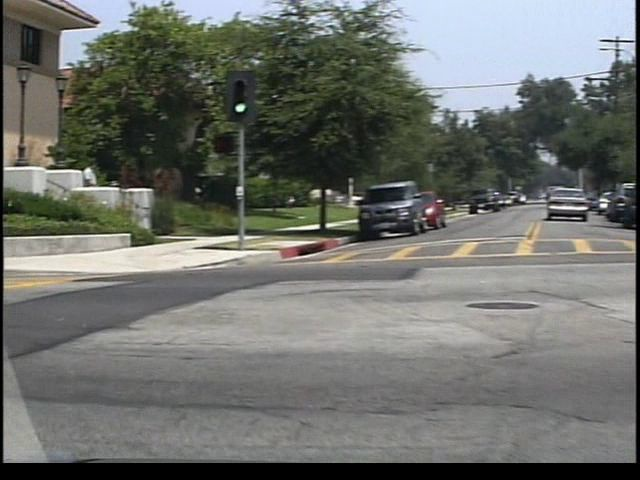person: (71, 152, 92, 217)
